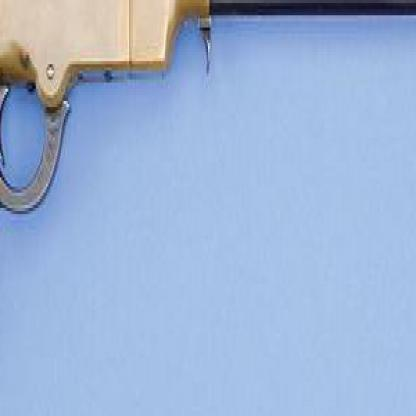gun: (0, 0, 415, 392)
